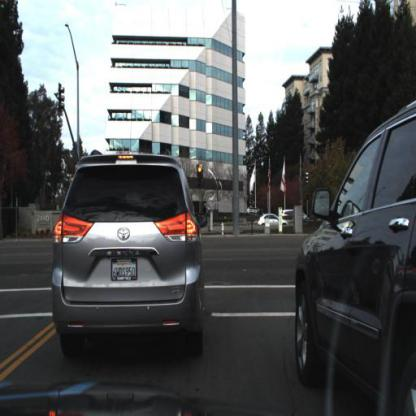car: (282, 83, 416, 416), (52, 143, 220, 363), (258, 208, 285, 234)
trafficLight-Red: (193, 152, 209, 201)
